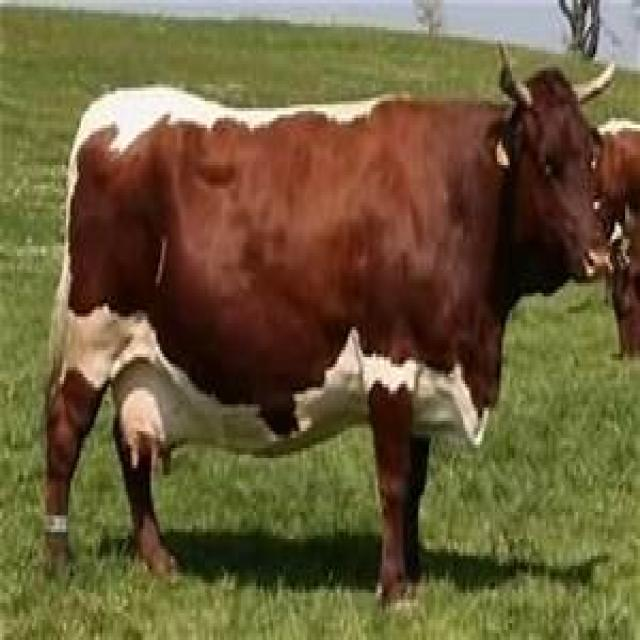cow: (43, 67, 640, 610)
